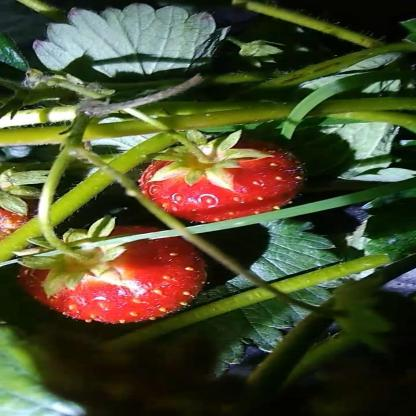ripe: (27, 228, 213, 326), (123, 141, 313, 219), (0, 190, 37, 256)
